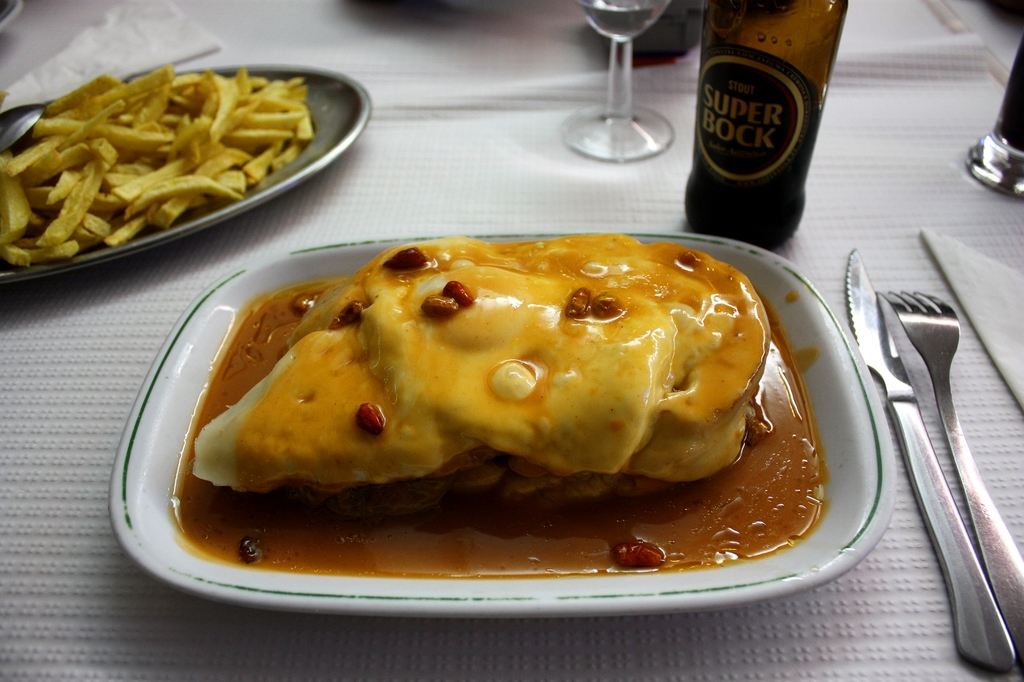French fries: (0, 67, 372, 248)
